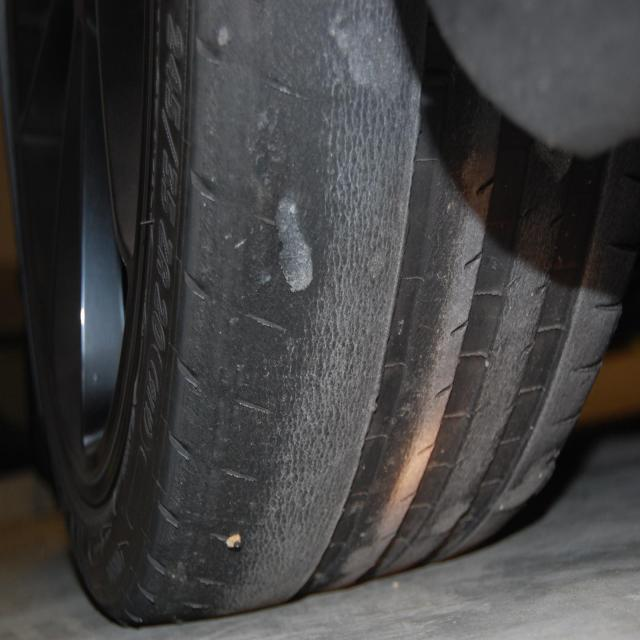Flat spots: (176, 0, 376, 607)
